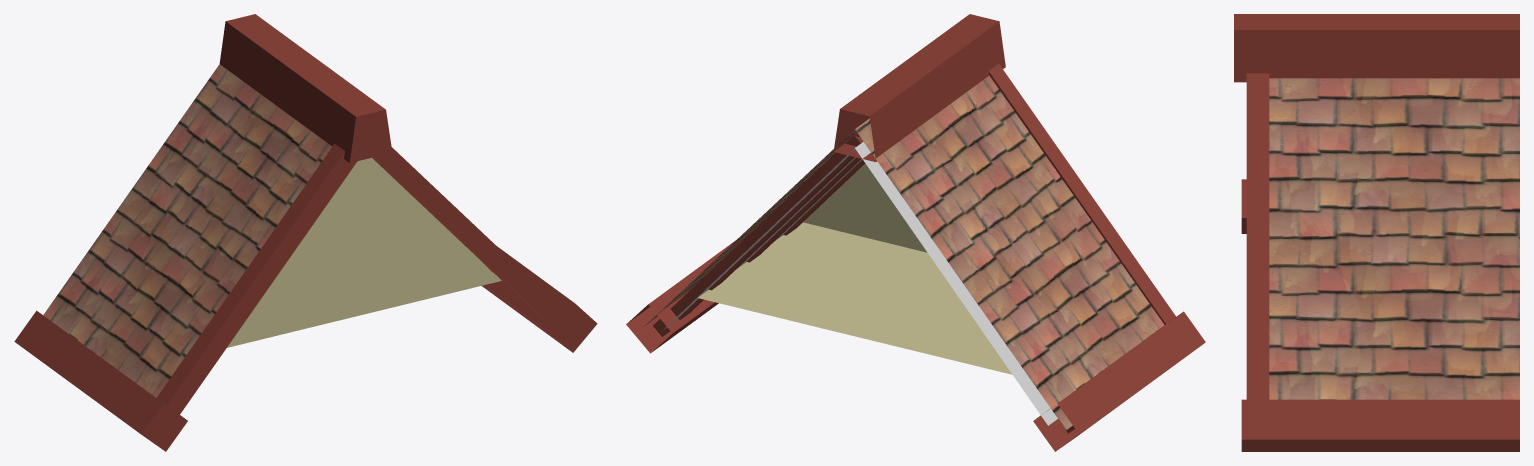
File: roof_8x4x4_head.fbx
3 views of the same model, side by side, from view 1: azimuth 30°, elevation 25°; view 2: azimuth 150°, elevation 25°; view 3: azimuth 270°, elevation 25° (orthographic). The views are drawn at different scales.
Visible parts, largest first — view 1: roof_8x4x4_head; view 2: roof_8x4x4_head; view 3: roof_8x4x4_head.
Boxes of the visible parts, left/top/right/bottom form: roof_8x4x4_head: left=14, top=14, right=597, bottom=451; roof_8x4x4_head: left=626, top=14, right=1205, bottom=451; roof_8x4x4_head: left=1234, top=14, right=1519, bottom=451.
Size of the model in its own units: 1008 by 618 by 500.
